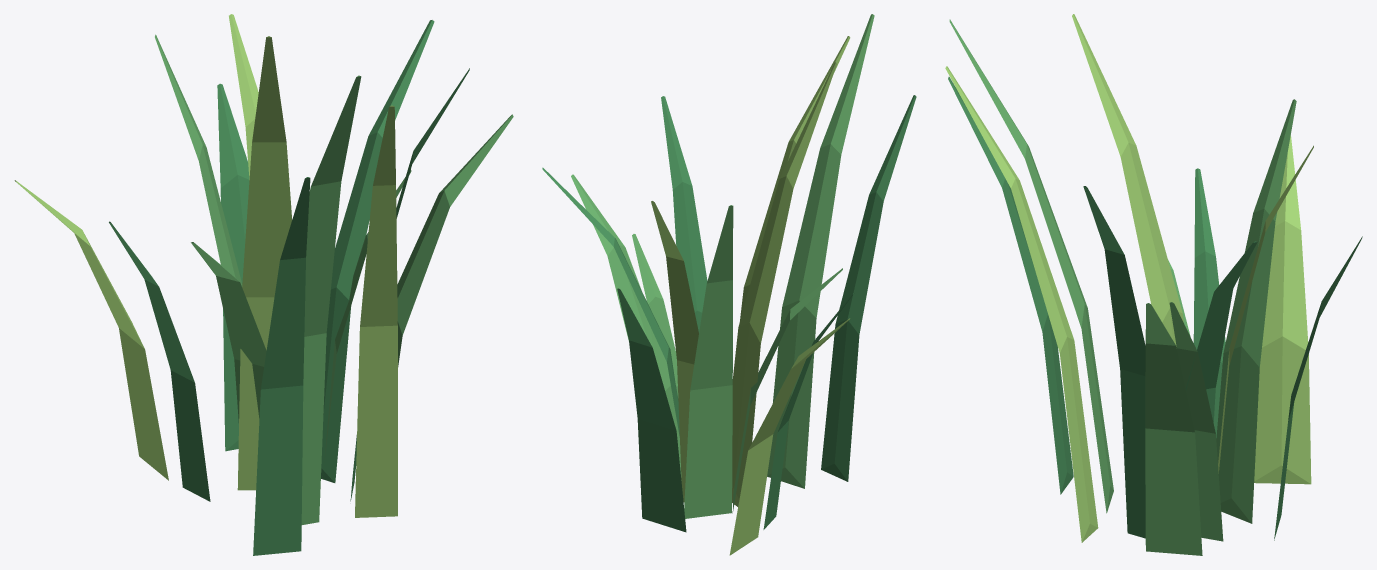
File: grass_tussock_c.glb
3 views of the same model, side by side, from view 1: azimuth 30°, elevation 25°; view 2: azimuth 150°, elevation 25°; view 3: azimuth 270°, elevation 25° (orthographic). The views are drawn at different scales.
Parts seen in each view (by area): view 1: GrassTussockC; view 2: GrassTussockC; view 3: GrassTussockC.
Part boxes in pixels (x1,y1,x2,y2): GrassTussockC: (14, 14, 513, 555); GrassTussockC: (542, 14, 916, 555); GrassTussockC: (945, 14, 1362, 555).
Size of the model in its own units: 0.663 by 0.7847 by 0.6258.
